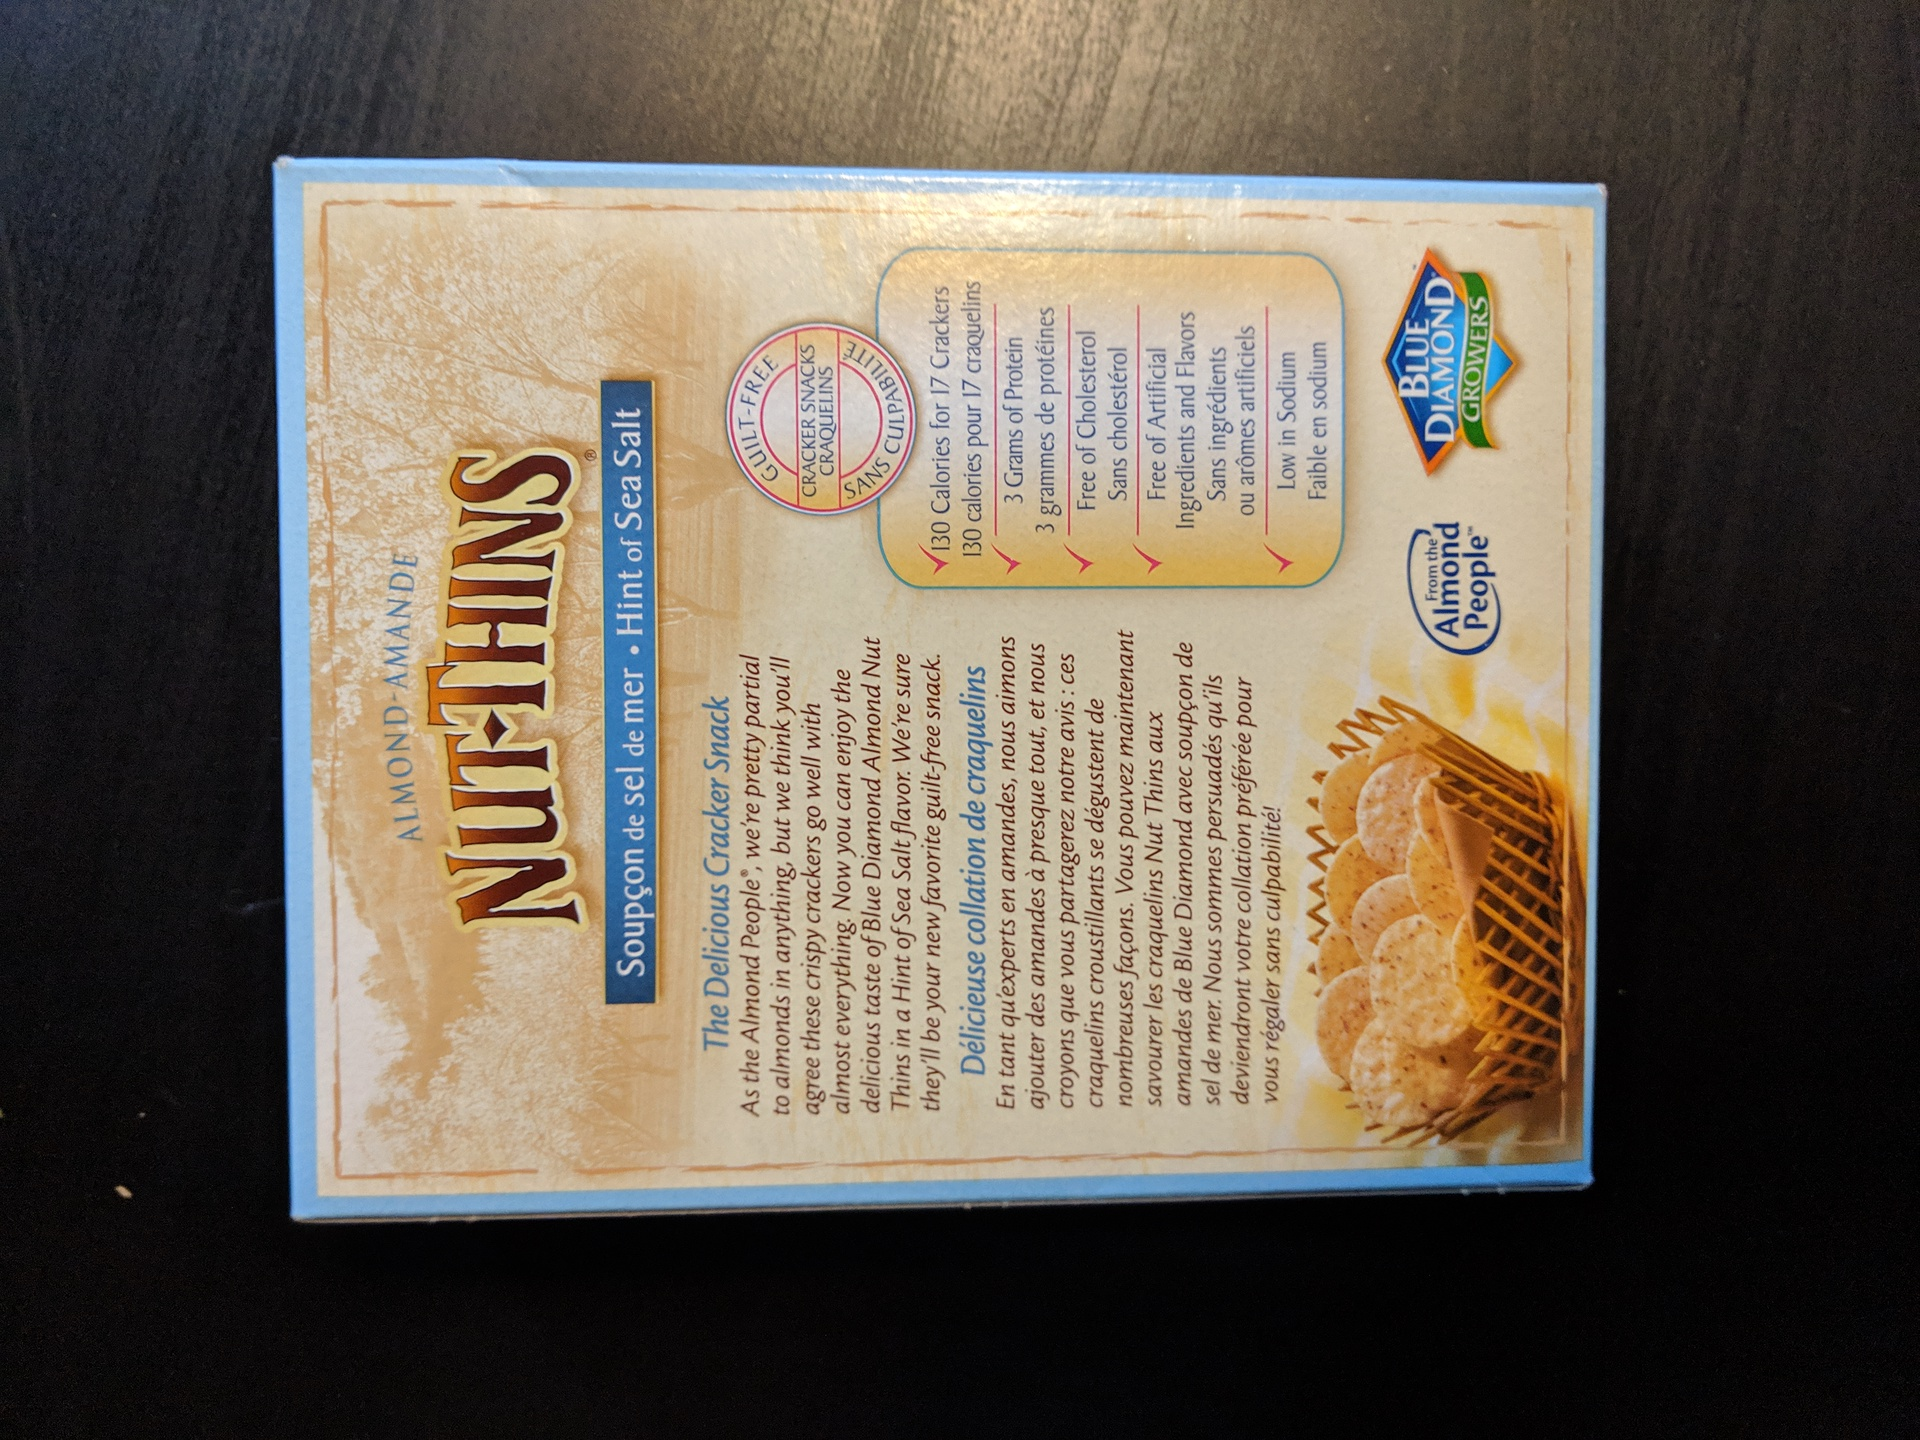blue_diamond_nut_thins_almond_seasalt: (269, 156, 1606, 1212)
